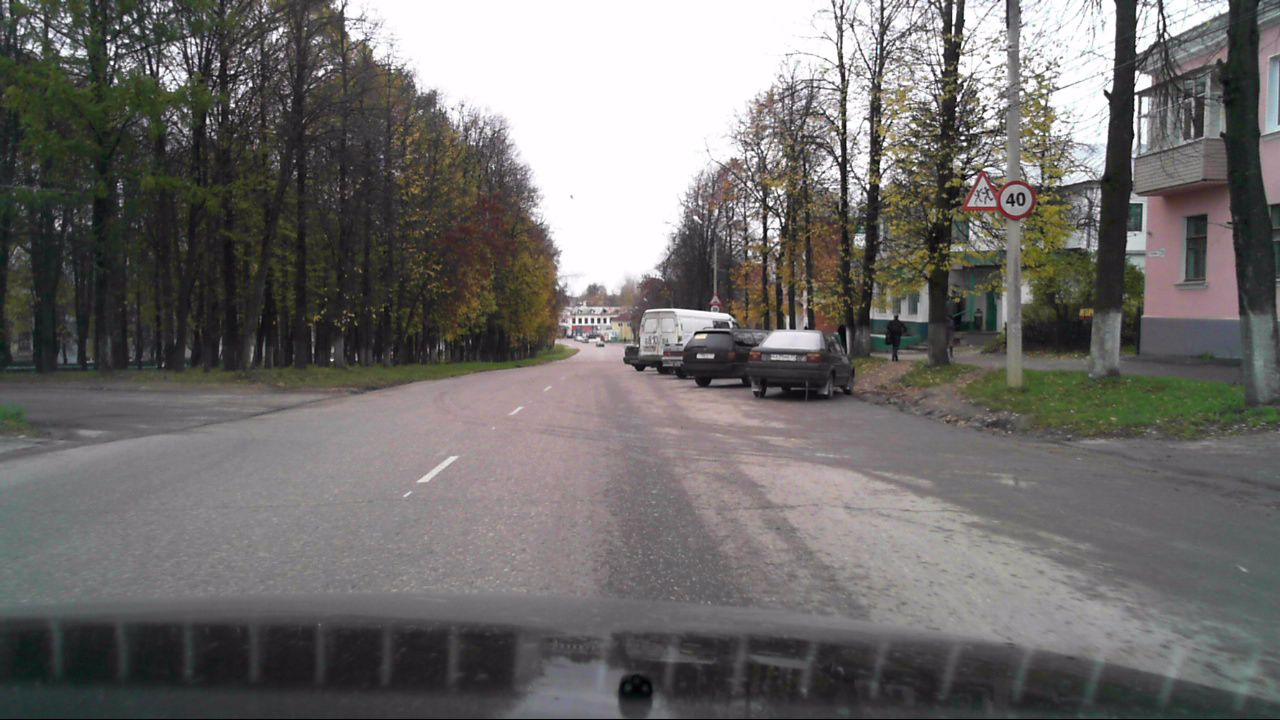speed_warning_40: (998, 180, 1035, 219)
